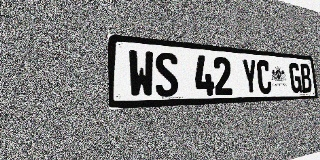2: (213, 56, 233, 95)
4: (194, 55, 215, 96)
B: (299, 63, 312, 93)
C: (256, 60, 272, 94)
G: (289, 62, 302, 93)
S: (154, 52, 179, 97)
W: (128, 49, 155, 98)
Y: (241, 59, 259, 95)
